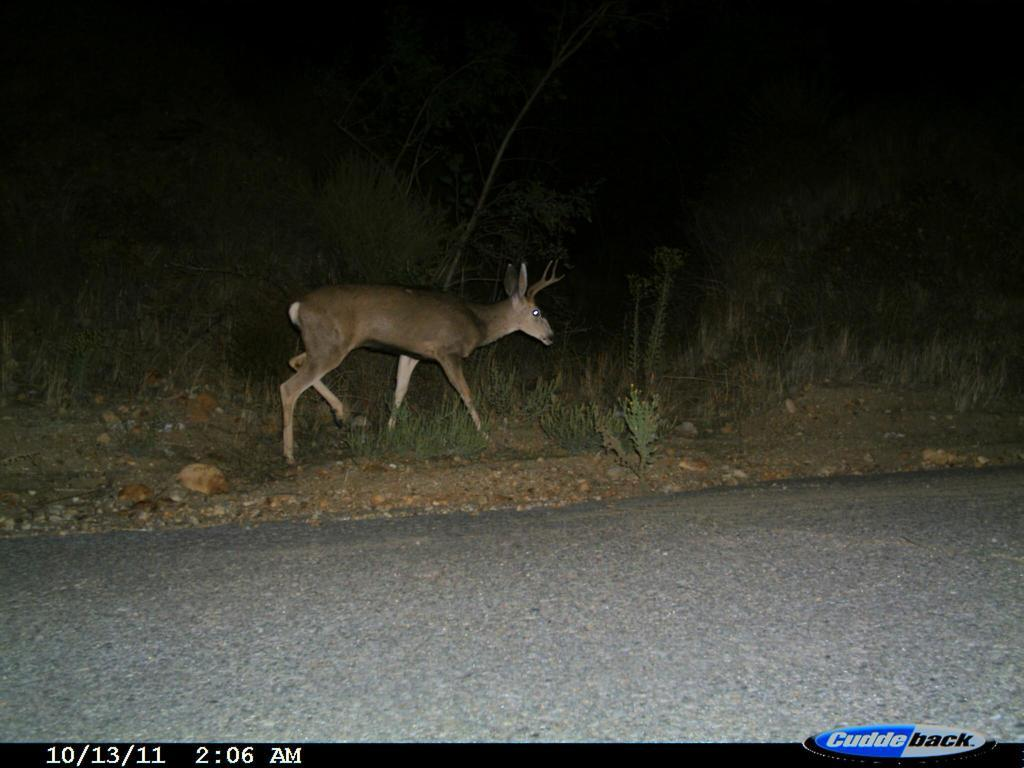deer: (257, 253, 565, 484)
